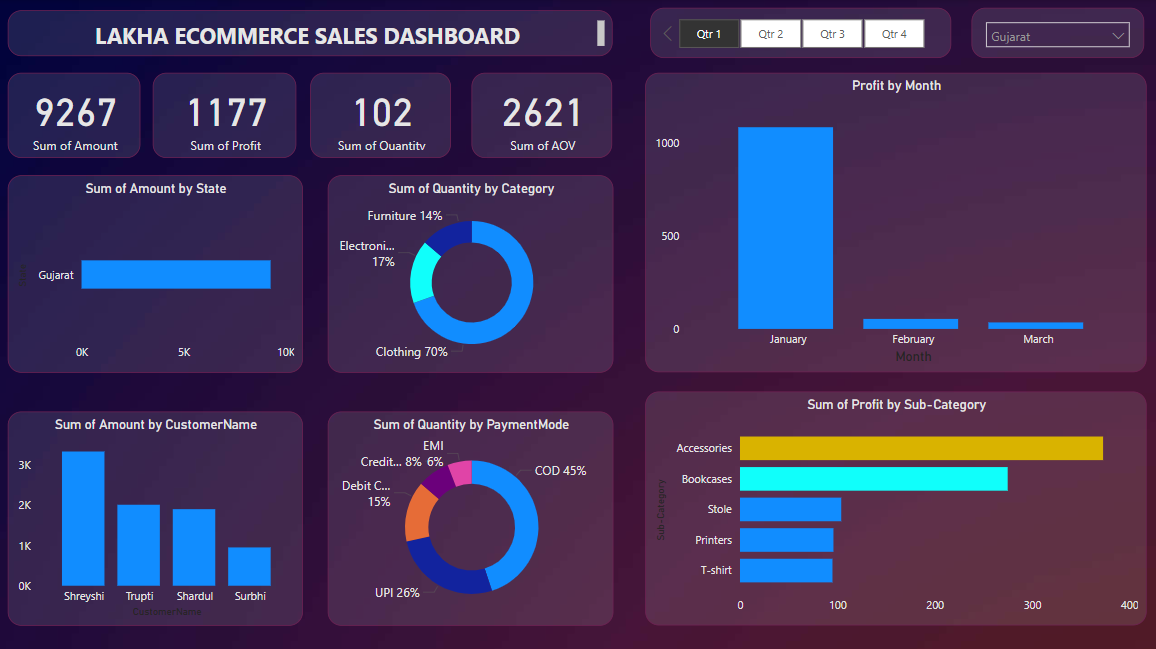

Layout of this report page (visuals, bound fields, positions):
{"tool":"powerbi","page":{"name":"Page 1","canvas":[1280,720],"ordinal":0},"visuals":[{"type":"textbox","box":[39.8,30.2,617.5,61.7],"z":0},{"type":"columnChart","title":"Profit by Month","fields":{"Category":["Orders.Order Date.Variation.Date Hierarchy.Month"],"Y":["Sum(Details.Profit)"]},"box":[677.9,115.3,581.8,289.5],"z":1000},{"type":"barChart","fields":{"Category":["Details.Sub-Category"],"Y":["Sum(Details.Profit)"]},"box":[677.9,435,581.8,259.3],"z":2000},{"type":"donutChart","fields":{"Category":["Details.Category"],"Y":["Sum(Details.Quantity)"]},"box":[347.2,241.5,310.1,220.9],"z":3000},{"type":"donutChart","fields":{"Y":["Sum(Details.Quantity)"],"Category":["Details.PaymentMode"]},"box":[347.2,474.8,310.1,220.9],"z":4000},{"type":"card","fields":{"Values":["Sum(Details.Amount)"]},"box":[39.8,115.3,135.8,101.5],"z":5000},{"type":"card","fields":{"Values":["Sum(Details.Quantity)"]},"box":[366.4,115.3,135.8,101.5],"z":6000},{"type":"card","fields":{"Values":["Sum(Details.Profit)"]},"box":[211.3,115.3,135.8,101.5],"z":7000},{"type":"card","fields":{"Values":["Sum(Details.AOV)"]},"box":[521.4,115.3,135.8,101.5],"z":8000},{"type":"barChart","fields":{"Category":["Orders.State"],"Y":["Sum(Details.Amount)"]},"box":[35.7,241.5,279.9,211.3],"z":9000},{"type":"columnChart","fields":{"Category":["Orders.CustomerName"],"Y":["Sum(Details.Amount)"]},"box":[35.7,474.8,279.9,220.9],"z":10000},{"type":"slicer","fields":{"Values":["Orders.Order Date.Variation.Date Hierarchy.Quarter"]},"box":[704.3,31.6,325.2,60.4],"z":11000},{"type":"slicer","fields":{"Values":["Orders.State"]},"box":[1063.8,31.6,161.9,60.4],"z":12000}]}

Visuals, with their boxes in screenshot pixels (x1, y1, x2, y2), scaled from the page's 1280x720 canvas onto the 1156x649 screenshot:
textbox: [36, 27, 594, 83]
"Profit by Month" columnChart: [612, 104, 1138, 365]
barChart - Details.Sub-Category x Sum(Details.Profit): [612, 392, 1138, 626]
donutChart - Details.Category x Sum(Details.Quantity): [314, 218, 594, 417]
donutChart - Sum(Details.Quantity) x Details.PaymentMode: [314, 428, 594, 627]
card - Sum(Details.Amount): [36, 104, 159, 195]
card - Sum(Details.Quantity): [331, 104, 454, 195]
card - Sum(Details.Profit): [191, 104, 313, 195]
card - Sum(Details.AOV): [471, 104, 594, 195]
barChart - Orders.State x Sum(Details.Amount): [32, 218, 285, 408]
columnChart - Orders.CustomerName x Sum(Details.Amount): [32, 428, 285, 627]
slicer - Orders.Order Date.Variation.Date Hierarchy.Quarter: [636, 28, 930, 83]
slicer - Orders.State: [961, 28, 1107, 83]
